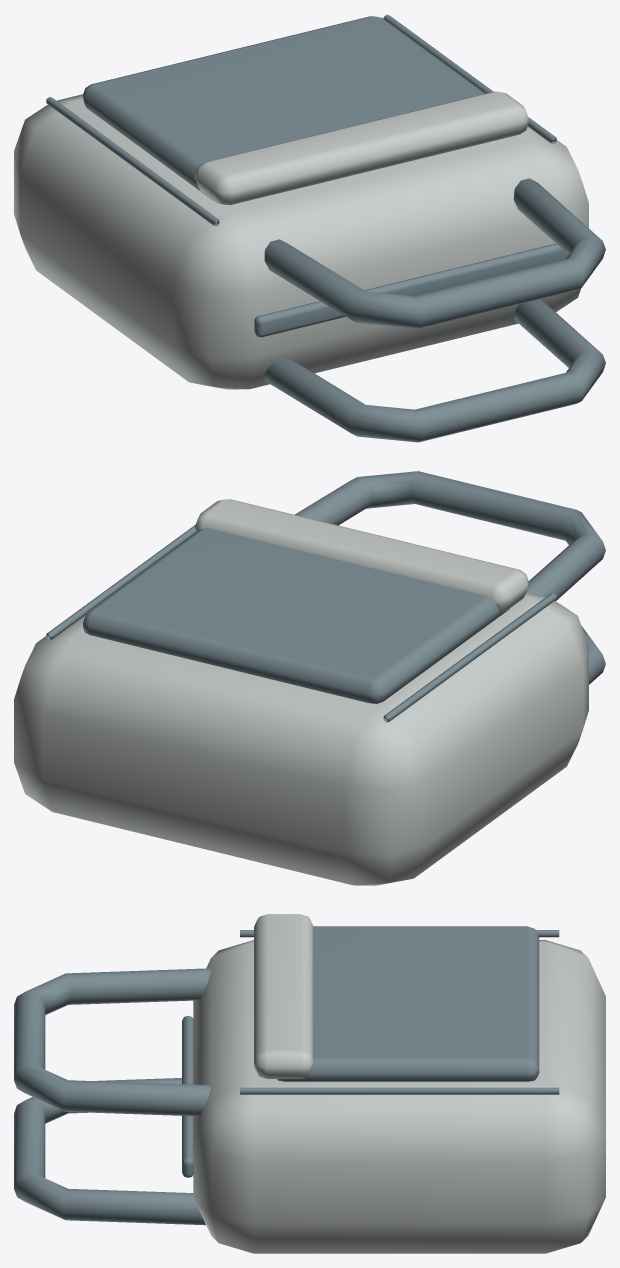
Rendered from bag.glb.
The picture shows the model from 3 angles, top to bottom: view 1: azimuth 30°, elevation 25°; view 2: azimuth 150°, elevation 25°; view 3: azimuth 270°, elevation 25°; orthographic projection. The views are drawn at different scales.
Parts seen in each view (by area): view 1: bag_body, front_pocket, pocket_flap, handle_0.045, handle_-0.045, zipper, seam.001, seam; view 2: bag_body, front_pocket, handle_0.045, pocket_flap, seam.001, seam, handle_-0.045; view 3: bag_body, front_pocket, handle_0.045, pocket_flap, handle_-0.045, seam, zipper.
Boxes of the visible parts, bbox=[...] form: bag_body: bbox=[14, 94, 588, 389]; front_pocket: bbox=[83, 16, 485, 200]; pocket_flap: bbox=[195, 91, 528, 204]; handle_0.045: bbox=[264, 178, 605, 328]; handle_-0.045: bbox=[264, 299, 605, 442]; zipper: bbox=[254, 243, 568, 337]; seam.001: bbox=[46, 97, 219, 226]; seam: bbox=[383, 14, 556, 143]; bag_body: bbox=[14, 592, 588, 885]; front_pocket: bbox=[83, 528, 509, 703]; handle_0.045: bbox=[294, 471, 605, 600]; pocket_flap: bbox=[195, 499, 528, 611]; seam.001: bbox=[383, 593, 556, 722]; seam: bbox=[46, 524, 195, 640]; handle_-0.045: bbox=[581, 626, 605, 684]; bag_body: bbox=[193, 940, 605, 1253]; front_pocket: bbox=[277, 926, 539, 1081]; handle_0.045: bbox=[14, 968, 210, 1116]; pocket_flap: bbox=[254, 914, 313, 1078]; handle_-0.045: bbox=[14, 1078, 205, 1225]; seam: bbox=[240, 1087, 559, 1094]; zipper: bbox=[182, 1016, 193, 1177].
Size of the model in its own units: 0.34 by 0.165 by 0.4448.
